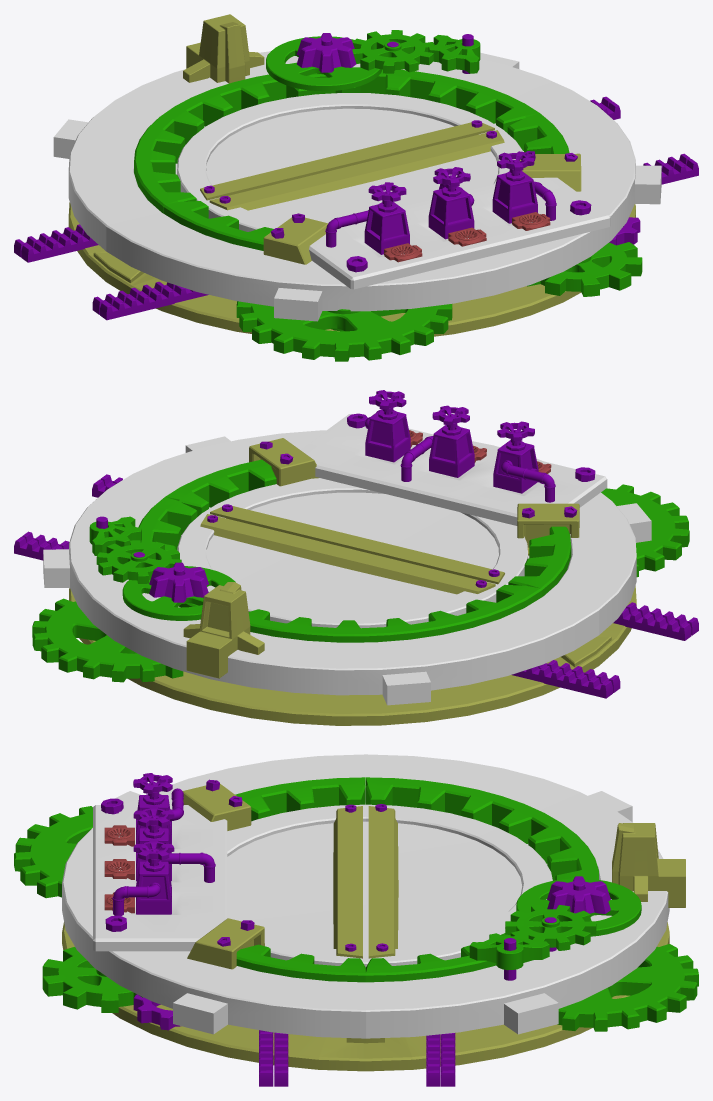
Rendered from geo_begin.fbx.
3 renders of one model, top to bottom at view 1: azimuth 30°, elevation 25°; view 2: azimuth 150°, elevation 25°; view 3: azimuth 270°, elevation 25°, orthographic. The views are drawn at different scales.
Parts seen in each view (by area): view 1: polySurface4, polySurface6, polySurface7, pCube1, geo_gear_grosse, pCylinder2, pCube5, pCube4, polySurface5, pCube6, geo_gear_normal_style, geo_gear_roue (+19 smaller); view 2: polySurface6, polySurface4, pCylinder2, pCube1, polySurface7, geo_gear_grosse1, pCube4, polySurface5, pCube6, pCube5, geo_gear_grosse, geo_gear_normal_style1 (+15 smaller); view 3: polySurface6, polySurface4, pCube1, pCylinder2, polySurface7, geo_gear_grosse1, polySurface5, pCube4, pCube5, pCube6, geo_gear_grosse, geo_gear_normal_style (+19 smaller).
Part boxes in pixels (x1,y1,x2,y2): polySurface4: (106,105,661,321); polySurface6: (53,51,596,250); polySurface7: (134,67,539,212); pCube1: (309,177,610,289); geo_gear_grosse: (236,301,452,361); pCylinder2: (68,202,635,336); pCube5: (209,130,504,210); pCube4: (200,122,494,200); polySurface5: (163,113,569,250); pCube6: (183,14,264,83); geo_gear_normal_style: (527,242,642,296); geo_gear_roue: (266,36,382,91); polySurface6: (43,489,598,705); polySurface4: (108,430,651,634); pCylinder2: (69,586,636,725); pCube1: (300,414,607,525); polySurface7: (138,497,541,642); geo_gear_grosse1: (32,598,183,682); pCube4: (200,514,495,594); polySurface5: (165,459,571,596); pCube6: (183,582,264,678); pCube5: (210,506,504,584); geo_gear_grosse: (601,484,689,577); geo_gear_normal_style1: (96,540,181,583); polySurface6: (366,754,669,1038); polySurface4: (62,754,365,1038); pCube1: (93,805,227,951); pCylinder2: (62,922,669,1071); polySurface7: (365,777,598,982); geo_gear_grosse1: (557,944,698,1031); polySurface5: (235,777,365,982); pCube4: (368,806,398,958); pCube5: (333,806,362,958); pCube6: (612,823,685,907); geo_gear_grosse: (14,806,92,898); geo_gear_normal_style: (42,947,142,1012).
Bounding box in the file's own units: 24.04 × 4.67 × 22.5.
